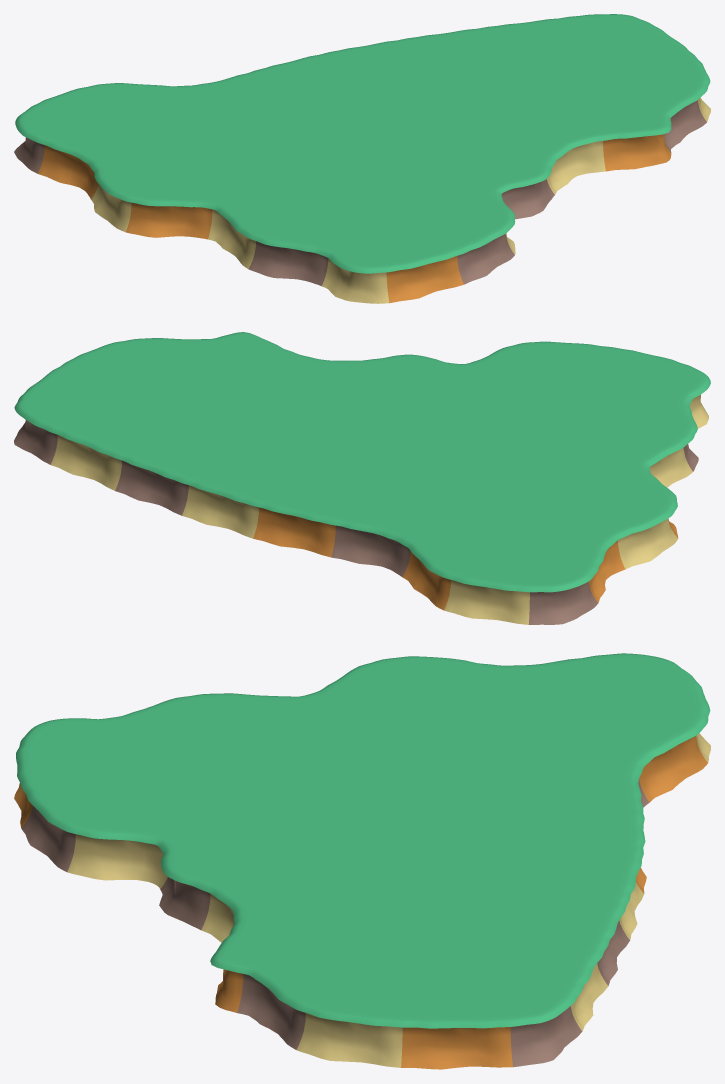
File: Mod_G2_Lm1.fbx
3 views of the same model, one above another, from view 1: azimuth 30°, elevation 25°; view 2: azimuth 150°, elevation 25°; view 3: azimuth 270°, elevation 25° (orthographic). The views are drawn at different scales.
Visible parts, largest first — view 1: Mod_G2_Lm1; view 2: Mod_G2_Lm1; view 3: Mod_G2_Lm1.
Boxes of the visible parts, x1,y1,x2,y2 form: Mod_G2_Lm1: (14,14,710,303); Mod_G2_Lm1: (14,332,710,624); Mod_G2_Lm1: (14,653,710,1069).
Size of the model in its own units: 7986 by 442 by 6286.
